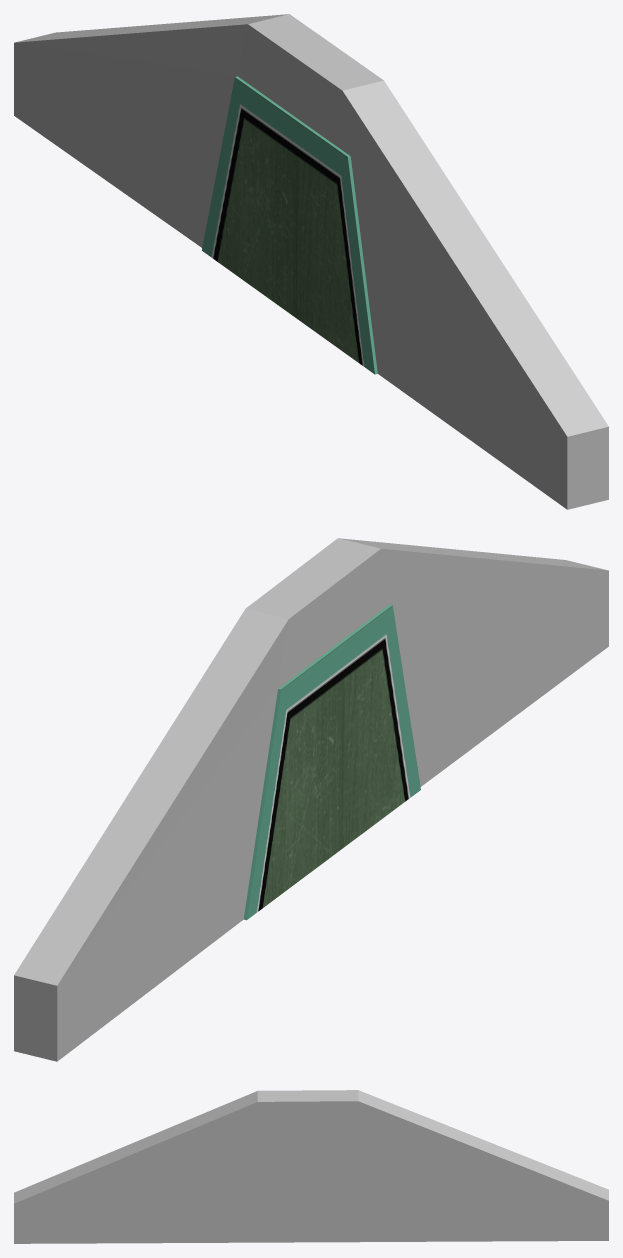
File: SM_TopWall04A.fbx
The picture shows the model from 3 angles, top to bottom: view 1: azimuth 30°, elevation 25°; view 2: azimuth 150°, elevation 25°; view 3: azimuth 270°, elevation 25°; orthographic projection. The views are drawn at different scales.
Visible parts, largest first — view 1: SM_TopWall04A; view 2: SM_TopWall04A; view 3: SM_TopWall04A.
Boxes of the visible parts, box(x1,y1,x2,y2) form: SM_TopWall04A: box(14, 14, 608, 509); SM_TopWall04A: box(14, 538, 608, 1061); SM_TopWall04A: box(14, 1090, 608, 1243).
Size of the model in its own units: 14.52 by 258 by 67.63.
